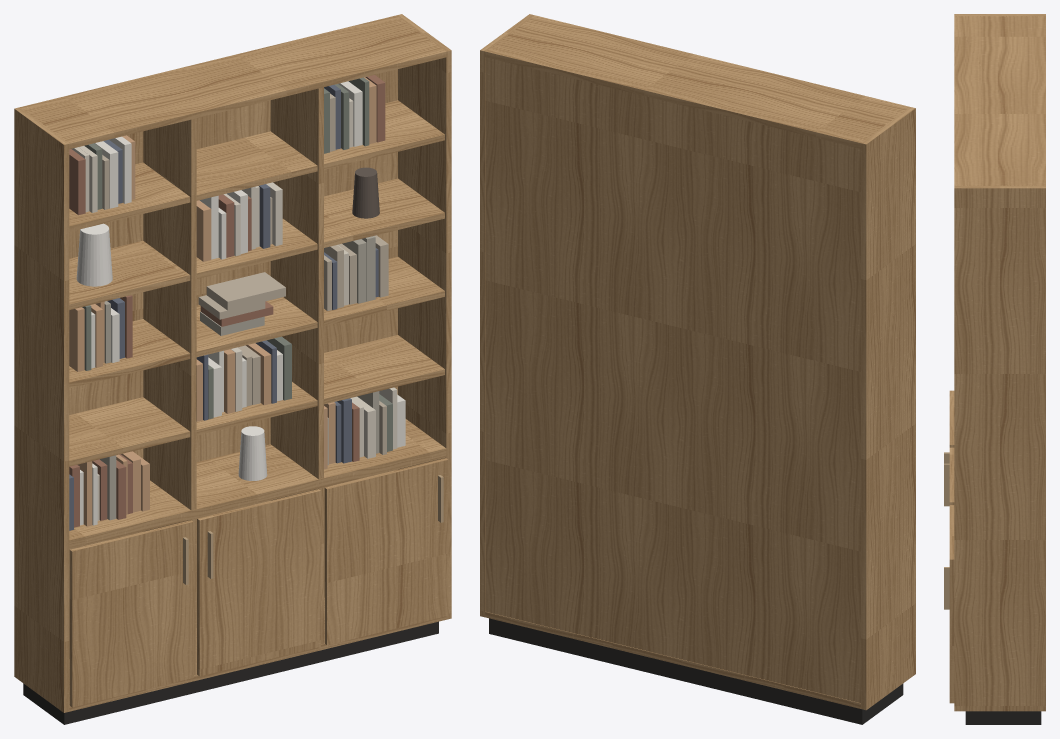
File: libreria-180x260.glb
3 renders of one model, left to right at view 1: azimuth 30°, elevation 25°; view 2: azimuth 150°, elevation 25°; view 3: azimuth 270°, elevation 25°, orthographic. The views are drawn at different scales.
Visible parts, largest first — view 1: finitura, schienale, libro6, libro0, libro4, libro3, zoccolo, libro2, libro5, libro1, libro7, ceramica (+2 smaller); view 2: schienale, finitura, zoccolo; view 3: finitura, zoccolo, bronzo.
Part boxes in pixels (x1,y1,x2,y2): finitura: (14,14,451,712); schienale: (69,69,397,658); libro6: (69,77,376,526); libro0: (102,93,388,465); libro4: (80,81,405,525); libro3: (69,75,385,527); zoccolo: (23,621,438,724); libro2: (71,98,397,520); libro5: (69,85,378,530); libro1: (82,77,392,451); libro7: (100,236,379,520); ceramica: (76,223,267,480); schienale: (485,57,860,702); finitura: (480,14,915,710); zoccolo: (489,618,903,724); finitura: (949,14,1045,711); zoccolo: (965,711,1041,724); bronzo: (944,452,949,609).
Size of the model in its own units: 1.8 by 2.6 by 0.445.
Materials: 15 (2 with a texture image).
